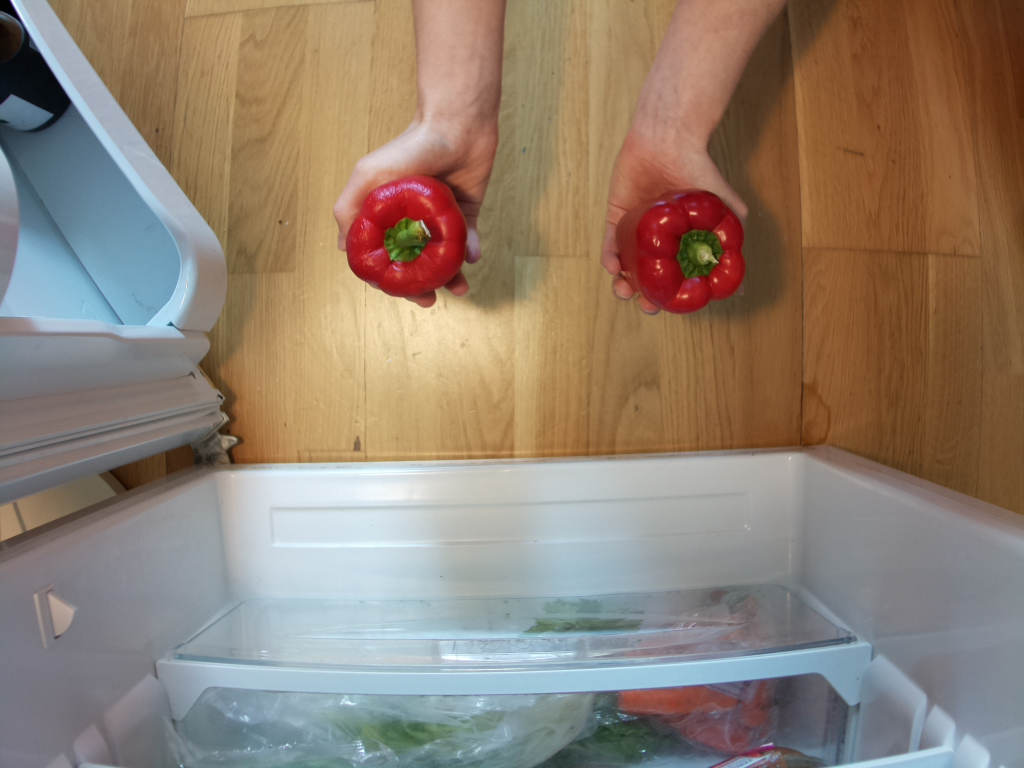pepper: (614, 192, 747, 316)
pepper-bad: (344, 177, 467, 296)
